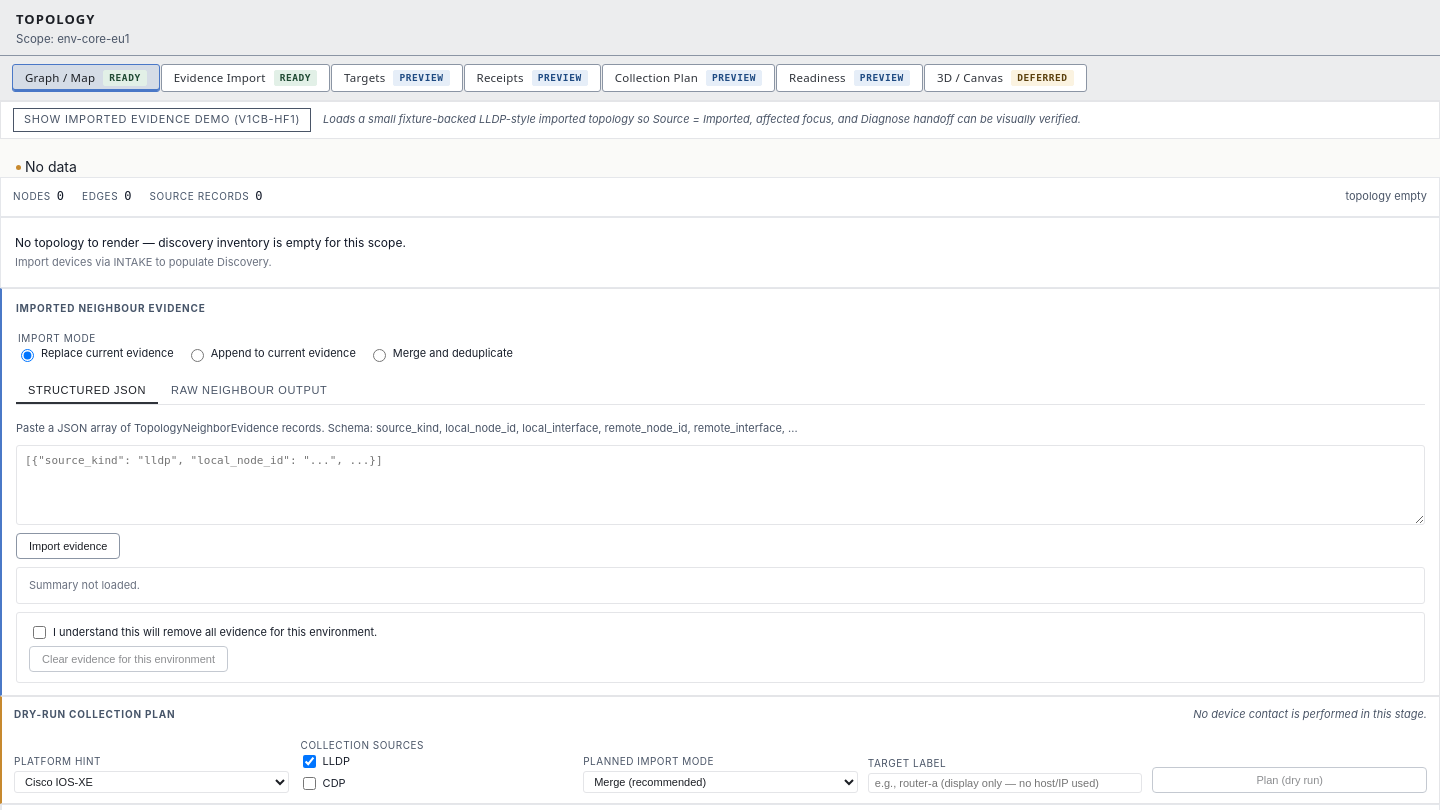
Scenario: TopologyMode — workbench (V1BI) › switching to Readiness shows the adjacency readiness section
The width and height of the screenshot is (1440, 810).
Click the tab with test id "mwb-tool-readiness": (849, 78) top-left (776, 64), bottom-right (923, 92)
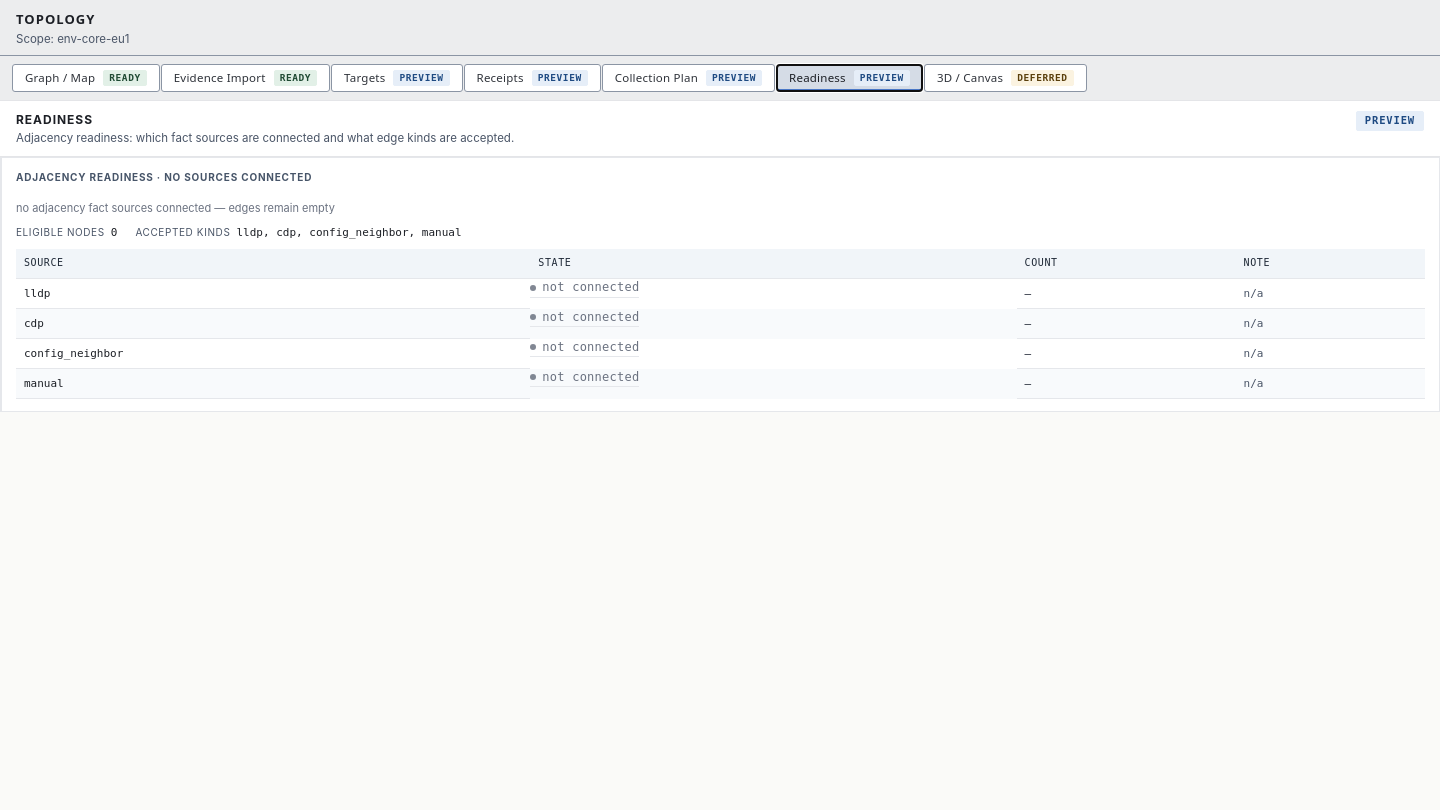
Expected: the element with test id "tm-adjacency" is shown, top-left (0, 157), bottom-right (1439, 412)
Expected: the element with test id "tm-summary" is gone
